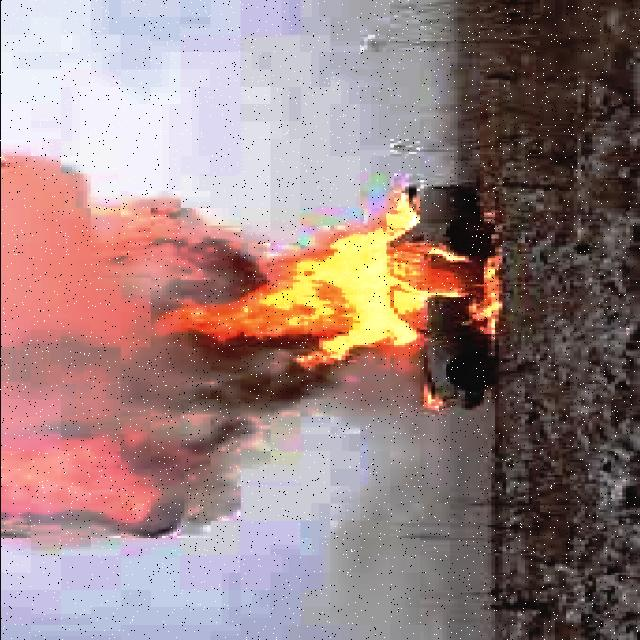api: (158, 188, 484, 412)
